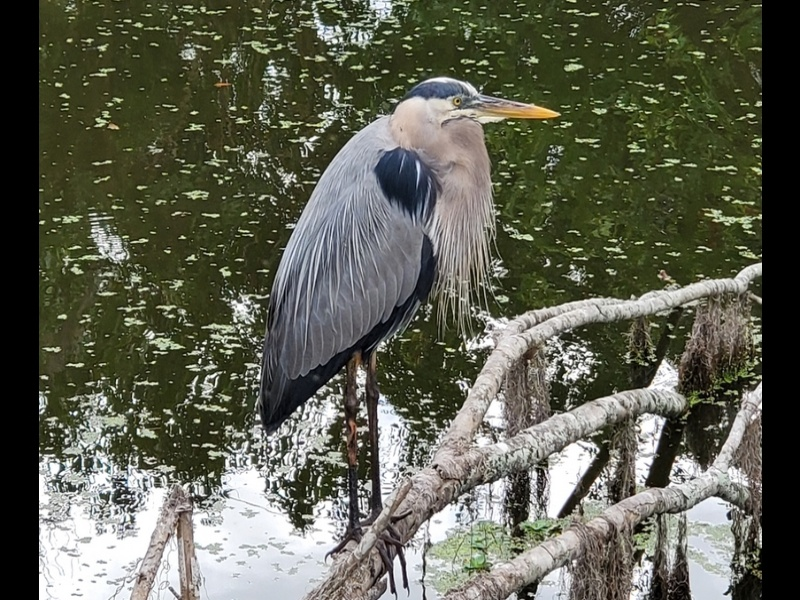heron: (255, 75, 566, 593)
